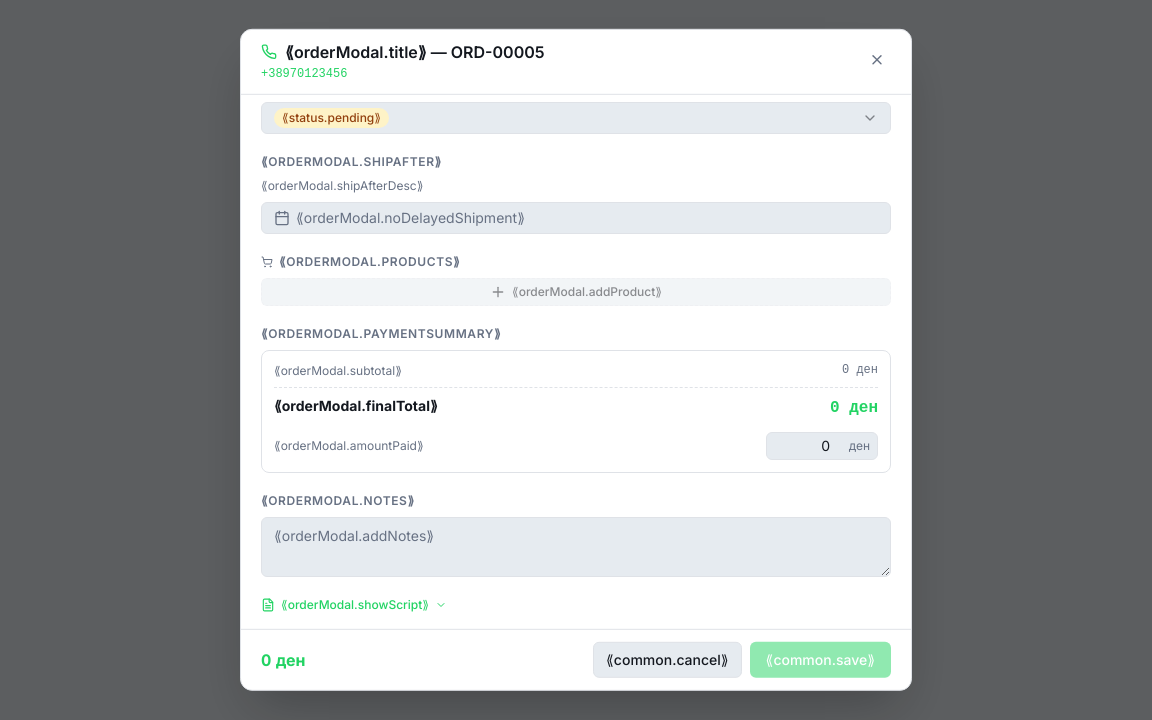
Test: OrderModal — the order-window script › an agent reads the script but never sees the edit link
(page scrolled)
Click the button "⟪orderModal.showScript⟫" at (354, 604), box [261, 596, 447, 612]
(page scrolled)
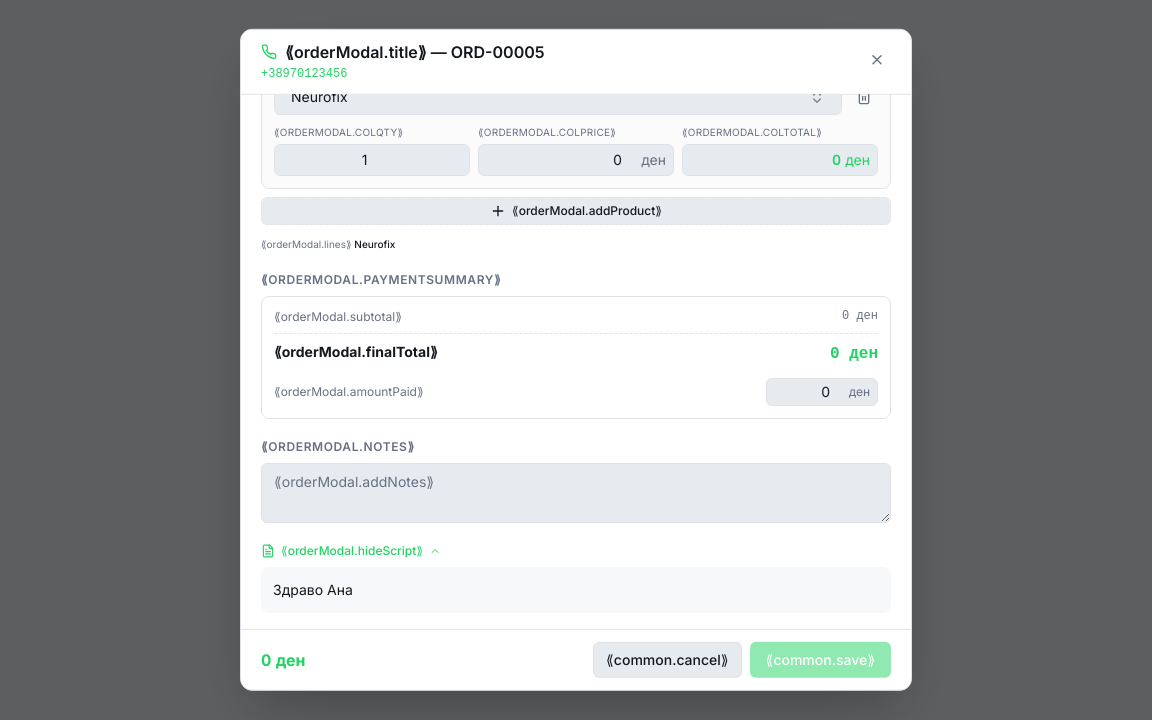
Now the text "Здраво Ана" is shown, box [261, 566, 891, 613]
